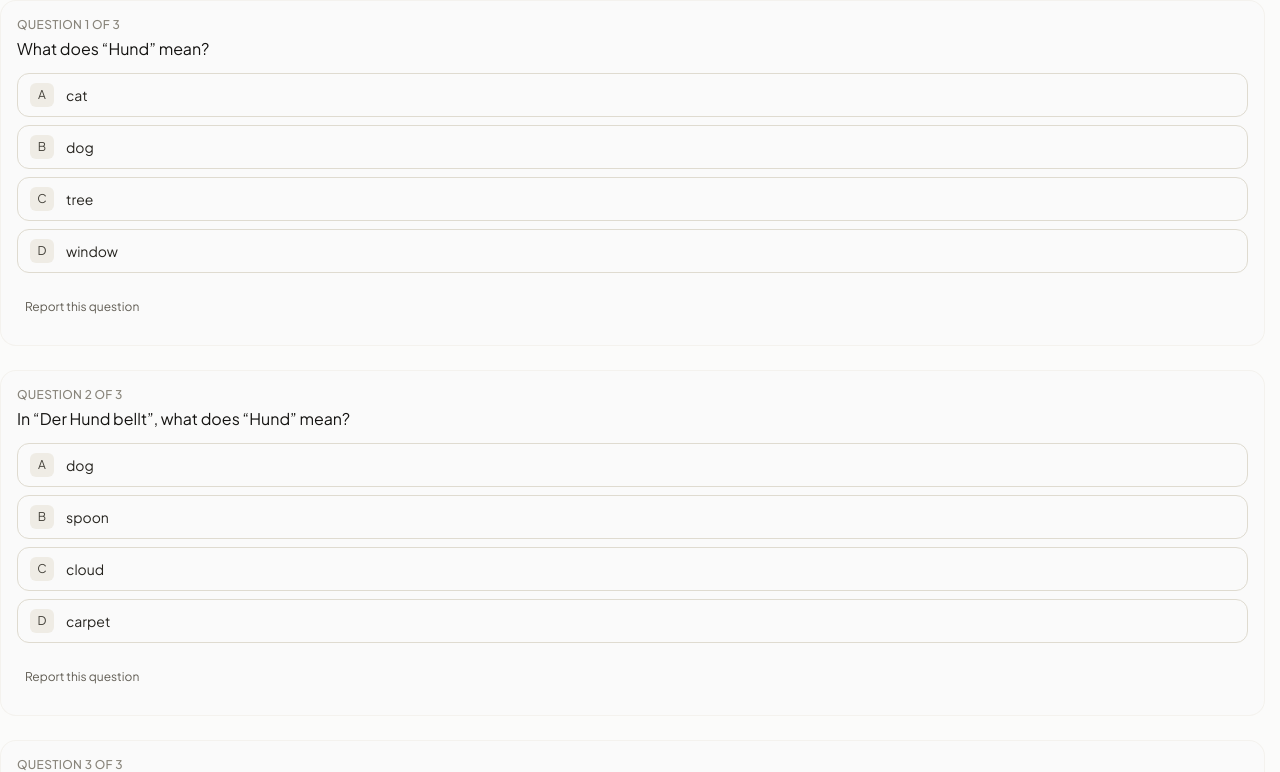
EntryQuizSection › lets a learner flag a bad question
This screenshot has width=1280, height=772.
Expected: the text "What does “Hund” mean?" is shown, [17, 38, 209, 59]
Click the 1st button "Report this question".
click(82, 307)  # box [17, 285, 147, 329]
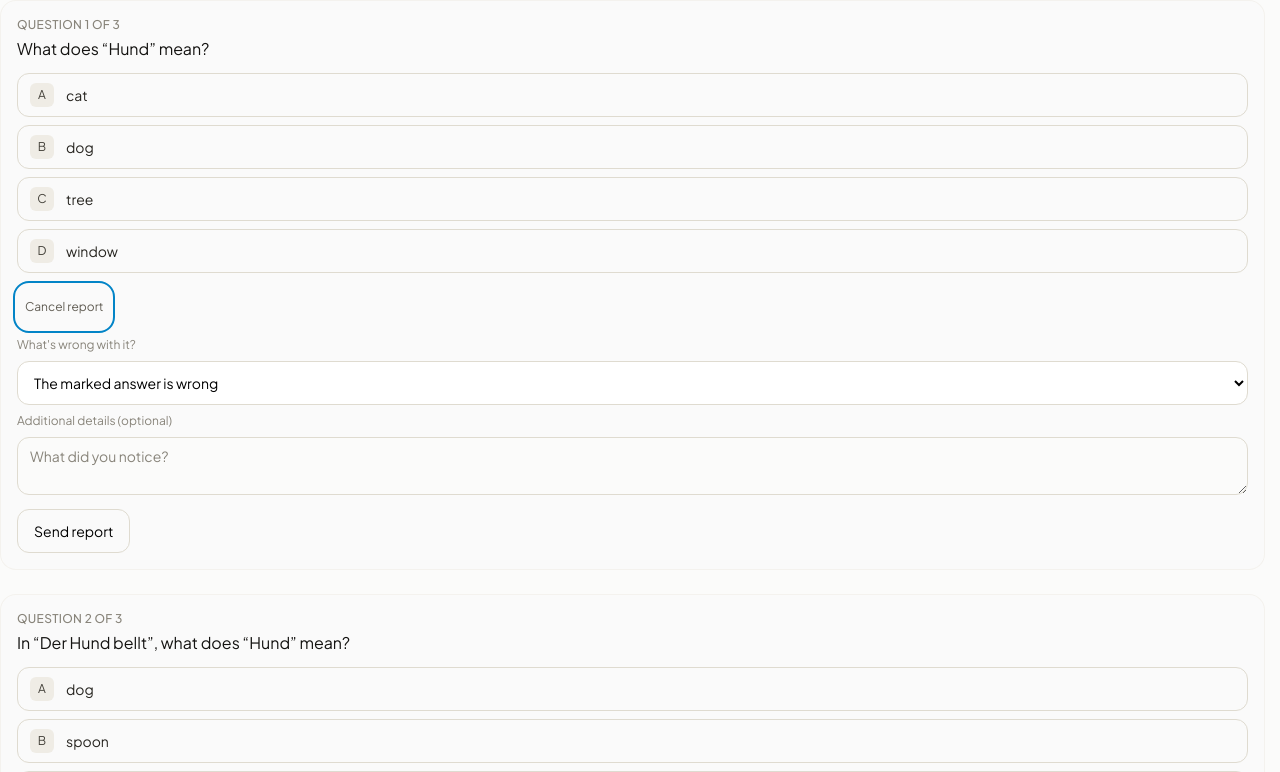
Select "More than one option is correct" in the dropdown labelled "What's wrong with it?" at (632, 383), box [17, 361, 1248, 405]
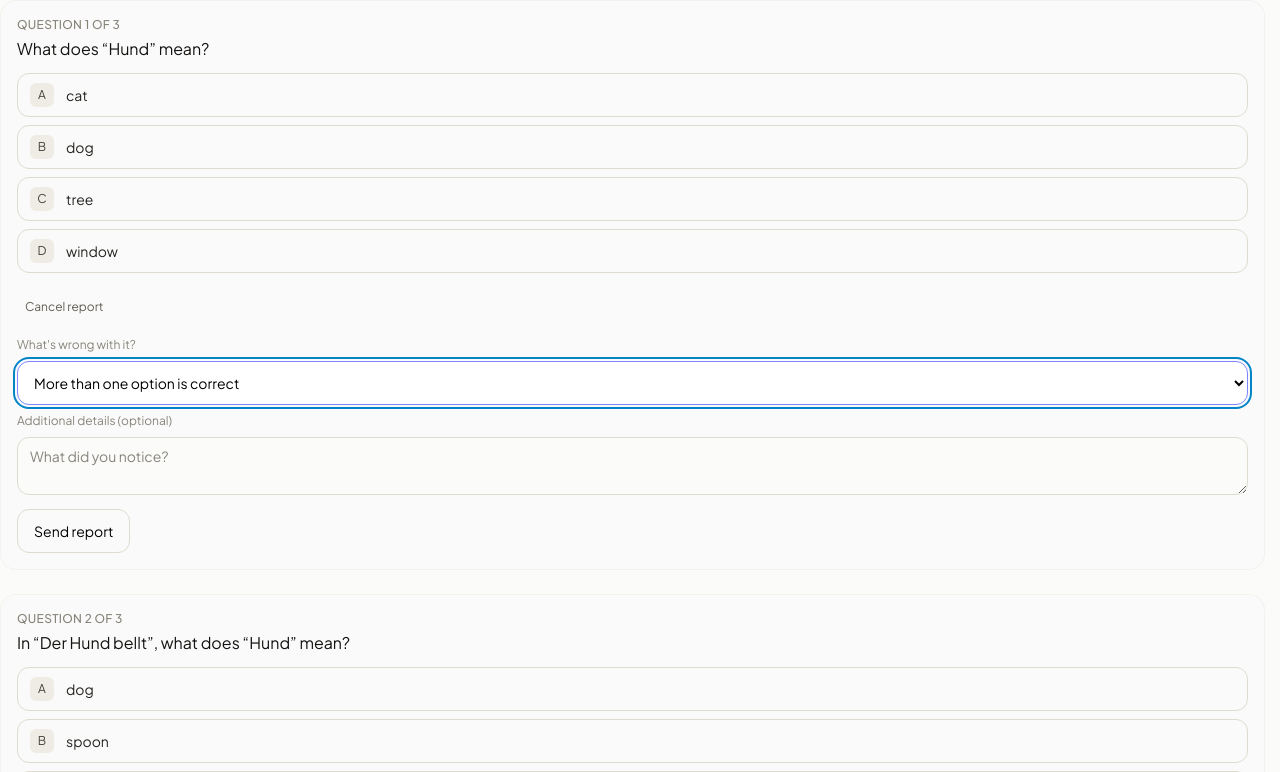
Click the button "Send report".
click(74, 531)  # box [17, 509, 130, 553]
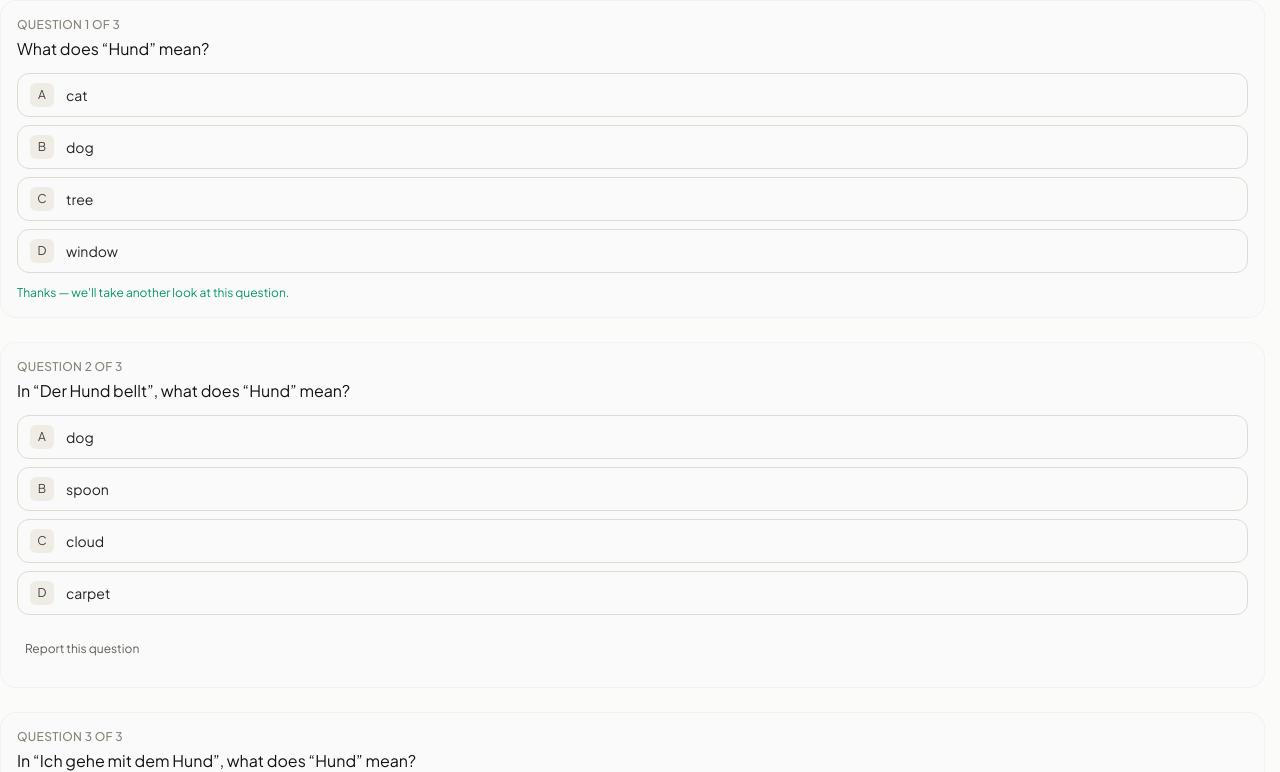
Expected: the text "Thanks — we'll take another look at this question." is shown, [17, 285, 289, 300]
